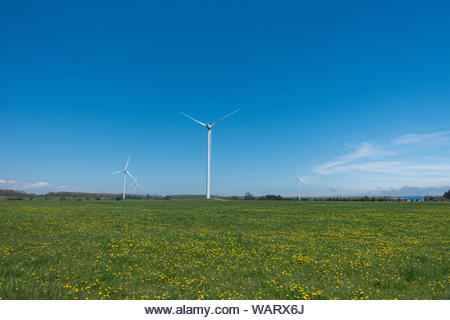faulty: (174, 105, 244, 147)
working: (101, 153, 136, 183)
